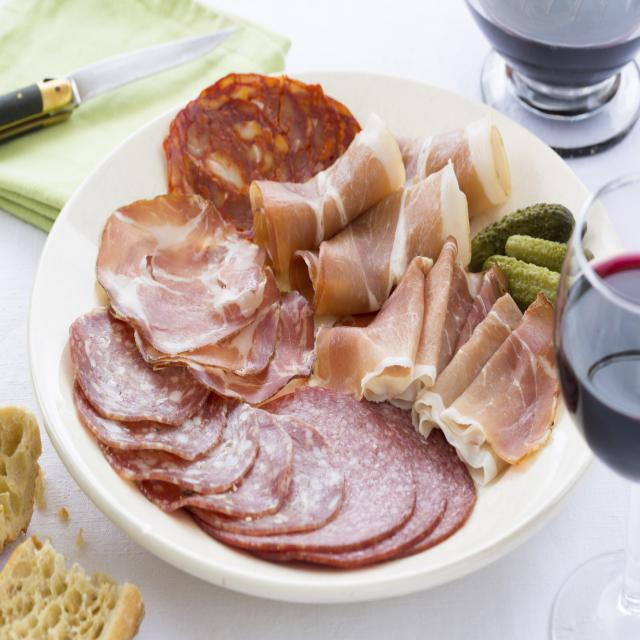bacon: (250, 113, 559, 484)
